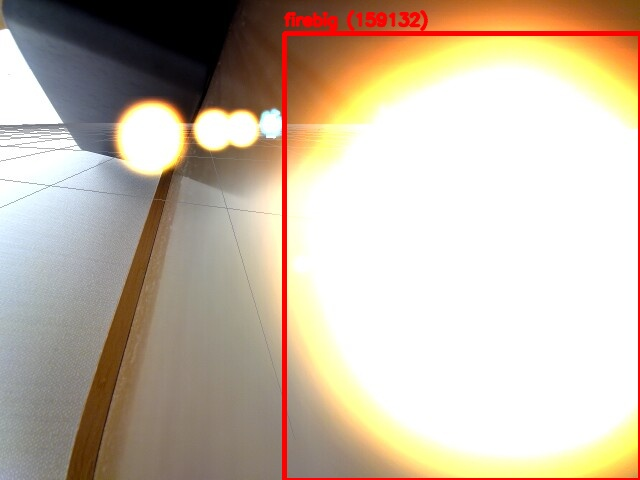firebig: (284, 33, 640, 480)
